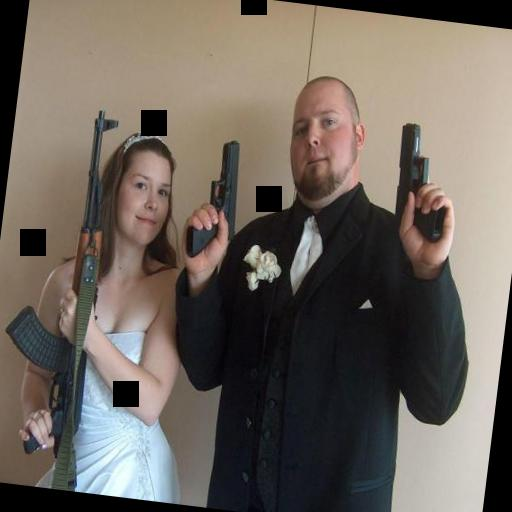Handgun: (380, 114, 462, 252), (178, 128, 248, 269)
